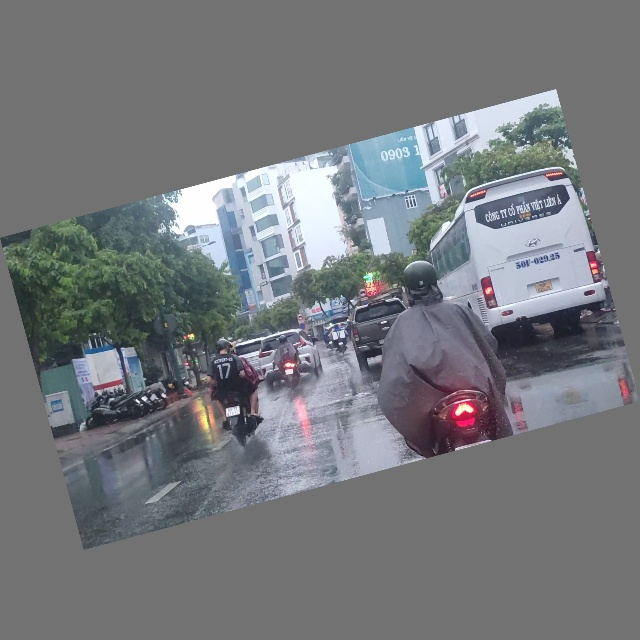P.106a*Xe tai: (358, 287, 368, 299), (296, 313, 304, 321)
P.131a: (298, 323, 307, 332)
